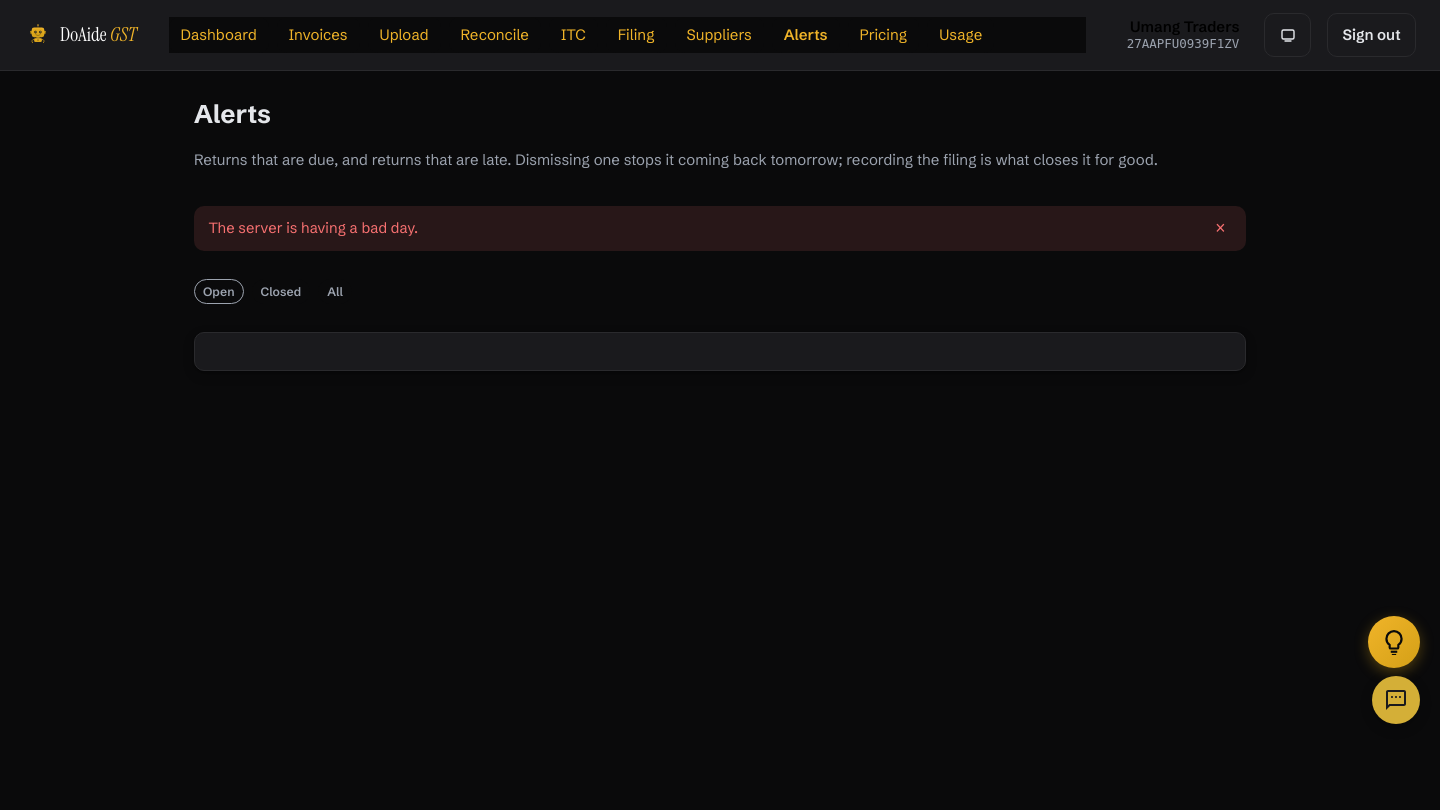
it: dismissing the error a page reports › /alerts lets the user close it
Click the button named "Dismiss" at coordinates (1220, 229), box [1209,217,1232,240]
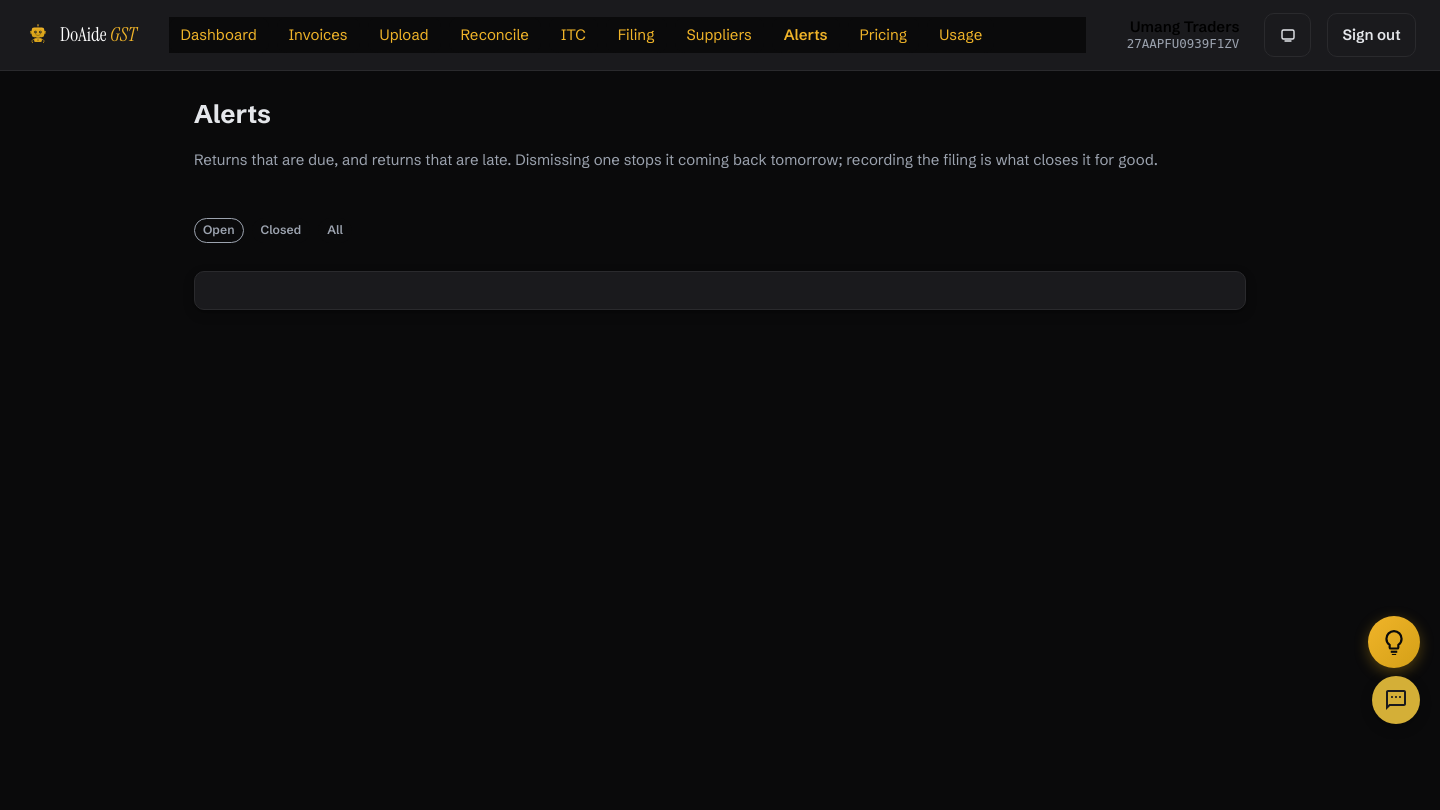
Expected: the link "Alerts" is shown, [772,17,840,53]
Expected: the message "The server is having a bad day. ×" is gone
